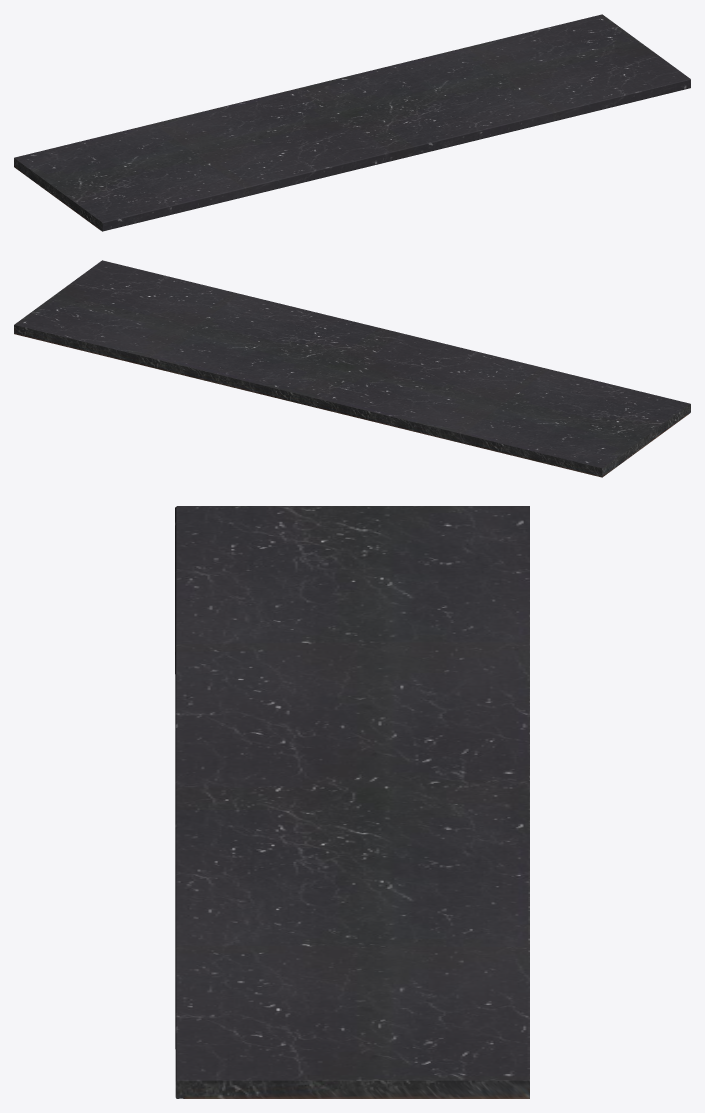
Rendered from S_LJAN_30439216.glb.
3 views of the same model, one above another, from view 1: azimuth 30°, elevation 25°; view 2: azimuth 150°, elevation 25°; view 3: azimuth 270°, elevation 25° (orthographic). The views are drawn at different scales.
Parts seen in each view (by area): view 1: model; view 2: model; view 3: model.
Boxes of the visible parts, box(x1,y1,x2,y2) form: model: box(14, 14, 690, 231); model: box(14, 260, 690, 477); model: box(175, 506, 529, 1098).
Bounding box in the file's own units: 2.49 × 0.0382 × 0.65.
Materials: 1 (1 with a texture image).
